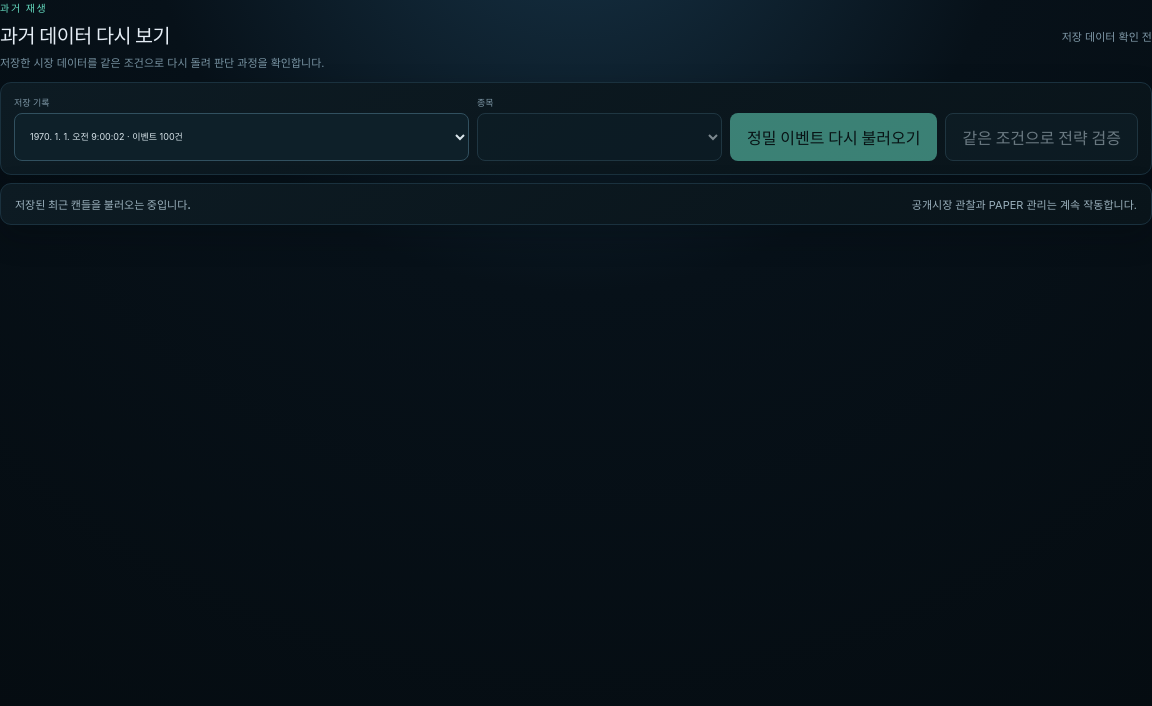
Test: aborts an obsolete preview when the user selects another saved run
Select "run-second" in the dropdown labelled "저장 기록": (242, 136) [14,112,469,160]
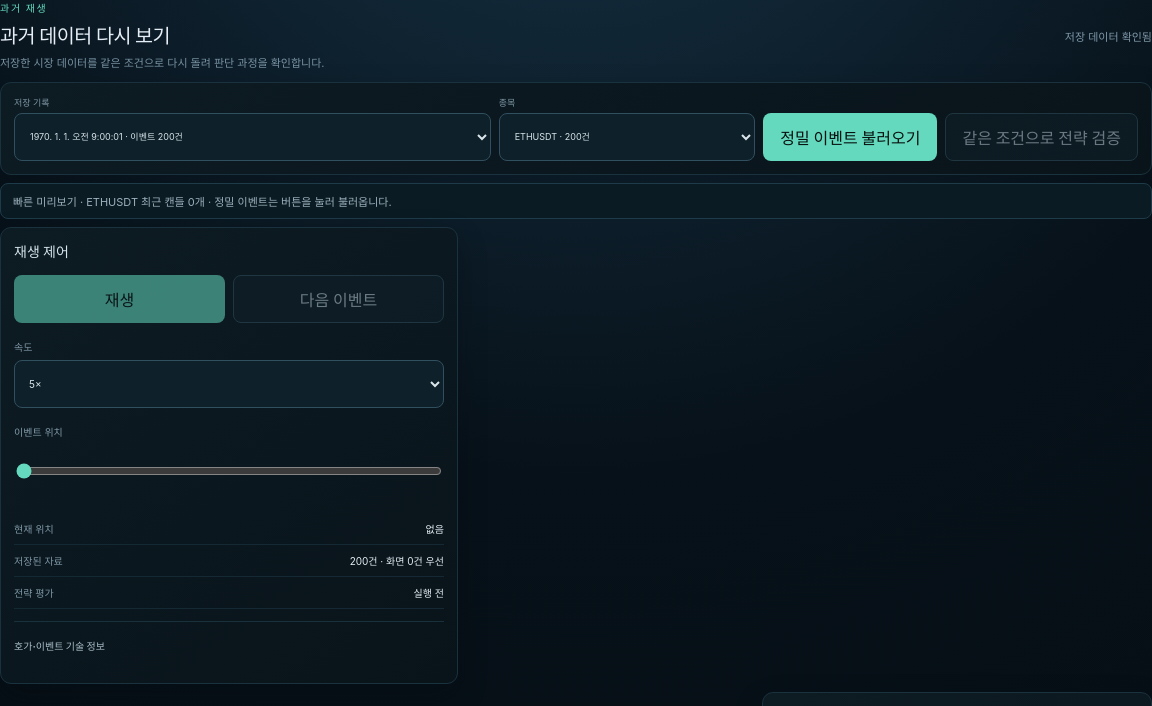
Now the text "빠른 미리보기 · ETHUSDT 최근 캔들 0개 · 정밀 이벤트는 버튼을 눌러 불러옵니다." is shown, box [0,182,1151,218]
